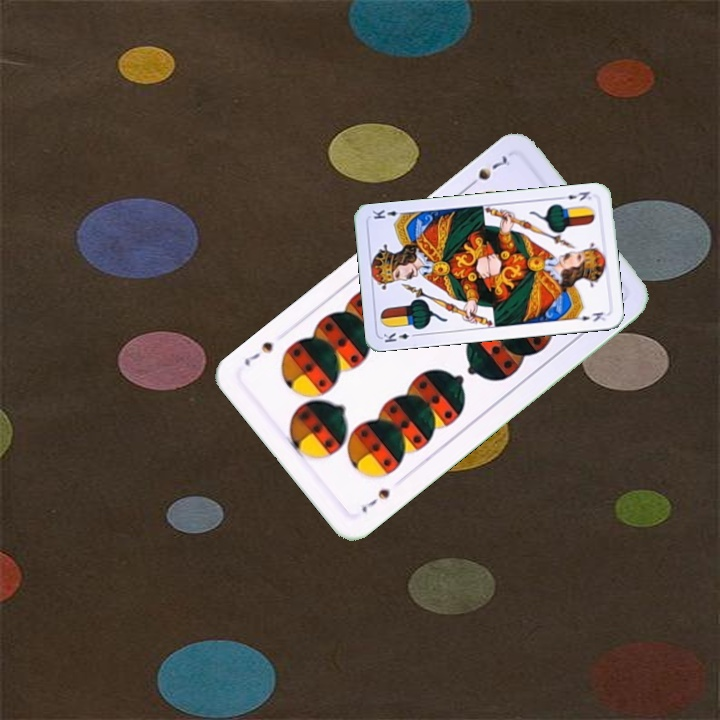EK: (379, 328, 420, 345), (556, 187, 593, 203)
S7: (462, 150, 513, 192), (357, 484, 393, 515)
